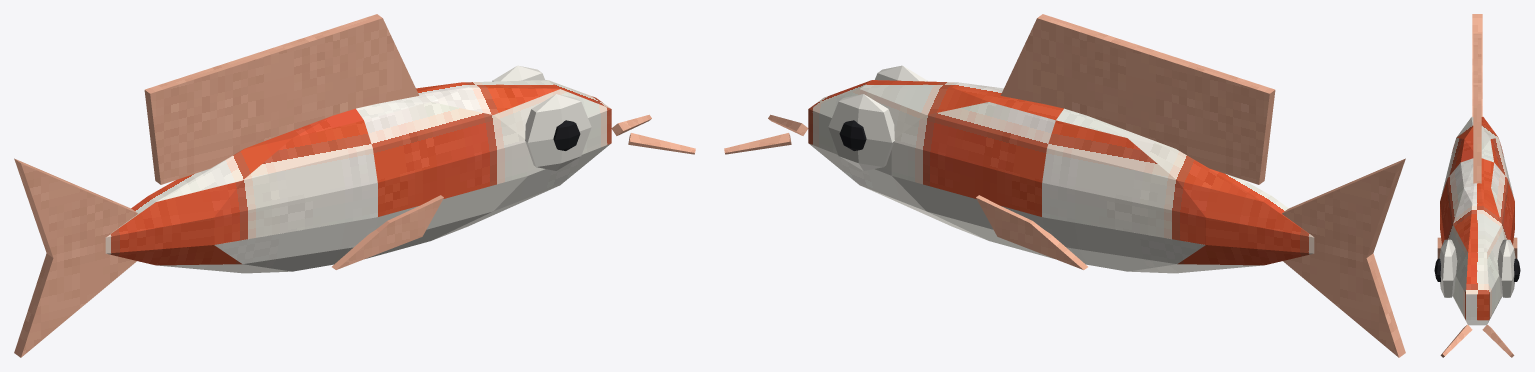
The picture shows the model from 3 angles, left to right: view 1: azimuth 30°, elevation 25°; view 2: azimuth 150°, elevation 25°; view 3: azimuth 270°, elevation 25°; orthographic projection. The views are drawn at different scales.
Visible parts, largest first — view 1: Fish_koi; view 2: Fish_koi; view 3: Fish_koi.
Boxes of the visible parts, <box> form: Fish_koi: <box>14,14,695,357</box>; Fish_koi: <box>724,14,1405,357</box>; Fish_koi: <box>1434,14,1520,357</box>.
Bounding box in the file's own units: 0.667 × 0.2438 × 0.1004.
Materials: 5 (5 with a texture image).
